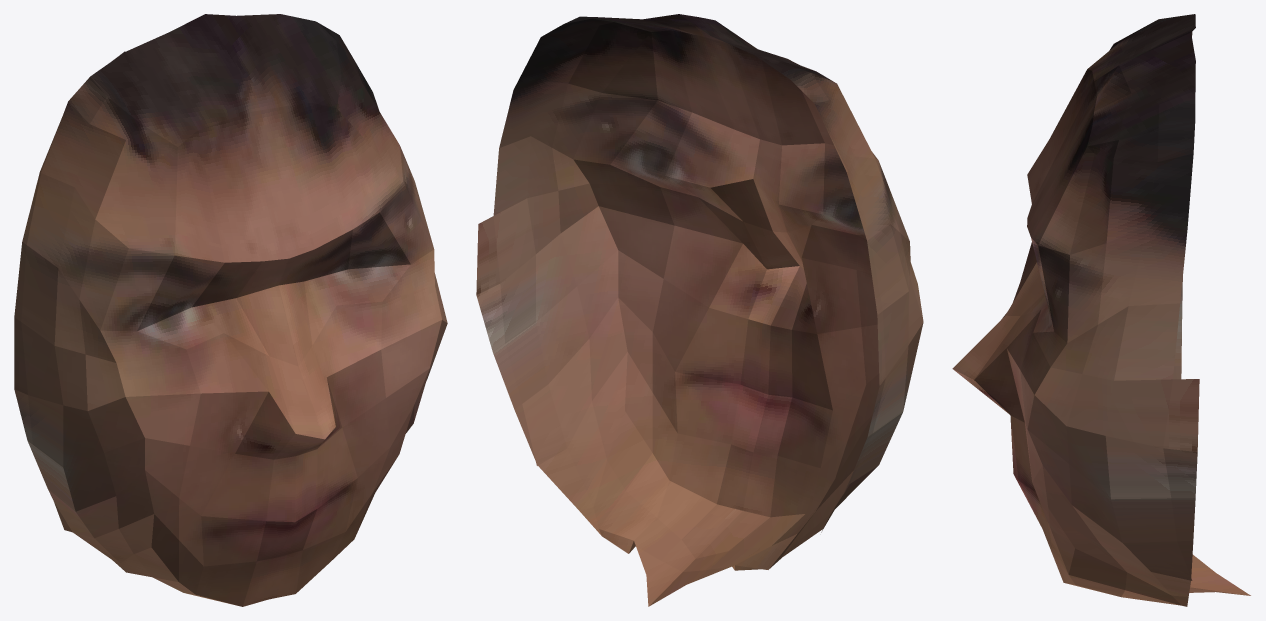
The model's file is maebelle 3d model.glb.
3 renders of one model, left to right at view 1: azimuth 30°, elevation 25°; view 2: azimuth 150°, elevation 25°; view 3: azimuth 270°, elevation 25°, orthographic.
Parts seen in each view (by area): view 1: Roundcube; view 2: Roundcube; view 3: Roundcube.
Boxes of the visible parts, bbox=[...] form: Roundcube: bbox=[14, 14, 447, 606]; Roundcube: bbox=[476, 14, 923, 606]; Roundcube: bbox=[952, 14, 1250, 606].
Size of the model in its own units: 0.9829 by 1.35 by 0.6516.
Materials: 1 (1 with a texture image).
